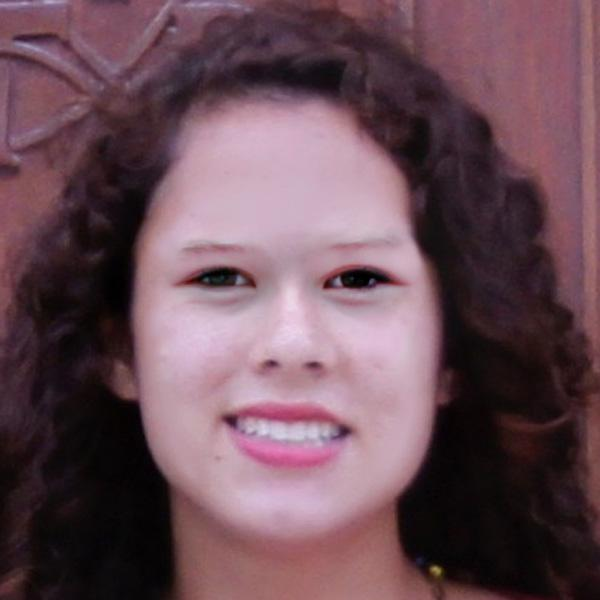Eyes: (315, 253, 403, 309), (172, 255, 264, 306)
